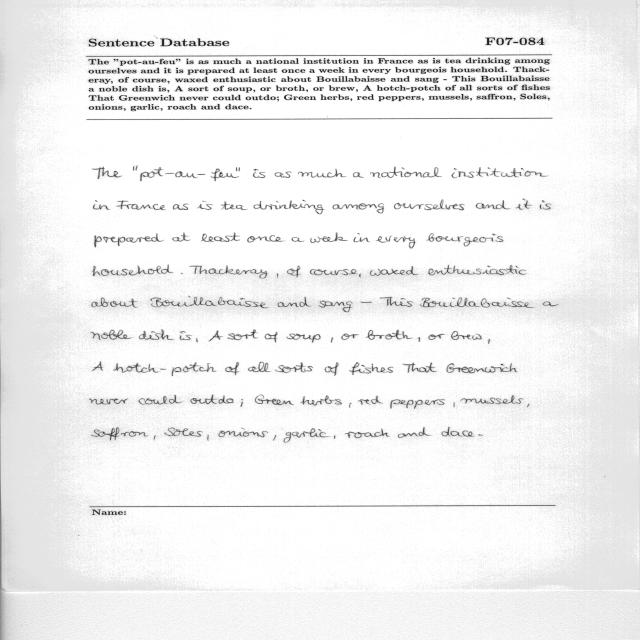word: (140, 167, 265, 181), (114, 362, 217, 376), (151, 296, 268, 308), (420, 297, 534, 308), (190, 265, 268, 279), (427, 233, 504, 247), (452, 167, 548, 178), (254, 200, 324, 214), (428, 265, 526, 275), (95, 234, 164, 247), (93, 265, 174, 276), (370, 167, 442, 178), (394, 200, 465, 211), (92, 427, 148, 440), (447, 363, 517, 373), (284, 428, 329, 443), (349, 362, 393, 375), (461, 396, 523, 405), (391, 399, 445, 409), (376, 236, 416, 249), (333, 204, 384, 214), (92, 297, 138, 308), (116, 201, 166, 211), (370, 266, 418, 276), (366, 330, 412, 340), (219, 428, 269, 437), (139, 395, 183, 405), (190, 395, 234, 405), (299, 169, 346, 178), (300, 396, 342, 406), (275, 362, 313, 373), (91, 330, 132, 340), (311, 232, 348, 243), (345, 429, 389, 438), (201, 232, 240, 242), (255, 395, 294, 405), (93, 166, 122, 179), (319, 301, 353, 312), (139, 329, 173, 340), (403, 362, 437, 373), (398, 427, 431, 438), (164, 428, 203, 437), (278, 297, 311, 307), (380, 297, 413, 307), (228, 329, 258, 340), (441, 427, 474, 437), (286, 334, 321, 343), (476, 200, 510, 209), (310, 269, 357, 275), (451, 331, 482, 340), (247, 236, 284, 243), (248, 362, 271, 372), (90, 399, 128, 405), (359, 396, 383, 405), (221, 202, 247, 210), (515, 199, 532, 210), (225, 362, 239, 375), (325, 363, 339, 376), (93, 200, 110, 210), (173, 233, 191, 242), (287, 266, 300, 278), (353, 233, 370, 242), (209, 331, 222, 342), (197, 201, 212, 210), (265, 332, 278, 342), (275, 171, 292, 178), (342, 333, 359, 340), (540, 200, 551, 210), (92, 362, 103, 372), (353, 172, 371, 178), (180, 331, 192, 340), (428, 334, 445, 340), (173, 204, 188, 210), (543, 302, 559, 307), (292, 237, 305, 242), (133, 166, 138, 171), (360, 301, 372, 303), (240, 399, 243, 407), (417, 337, 420, 342), (273, 435, 276, 440), (331, 337, 333, 343), (207, 435, 209, 441), (254, 169, 259, 171), (488, 339, 490, 344), (349, 403, 351, 408), (453, 403, 455, 408), (154, 435, 156, 440), (478, 434, 483, 436), (359, 274, 361, 278), (196, 338, 198, 342), (527, 404, 529, 407), (277, 273, 278, 278), (334, 435, 335, 439), (181, 273, 183, 274)
